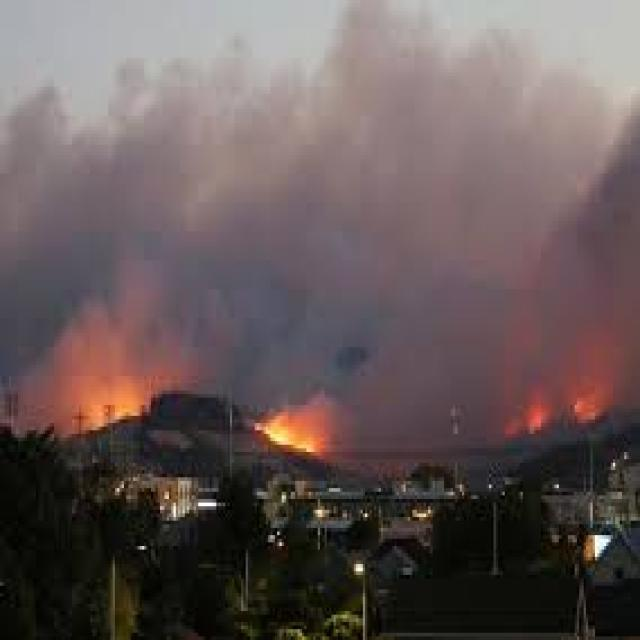Fire: (258, 390, 348, 493), (60, 368, 172, 442), (526, 404, 543, 432)
Smoke: (72, 90, 640, 286)
